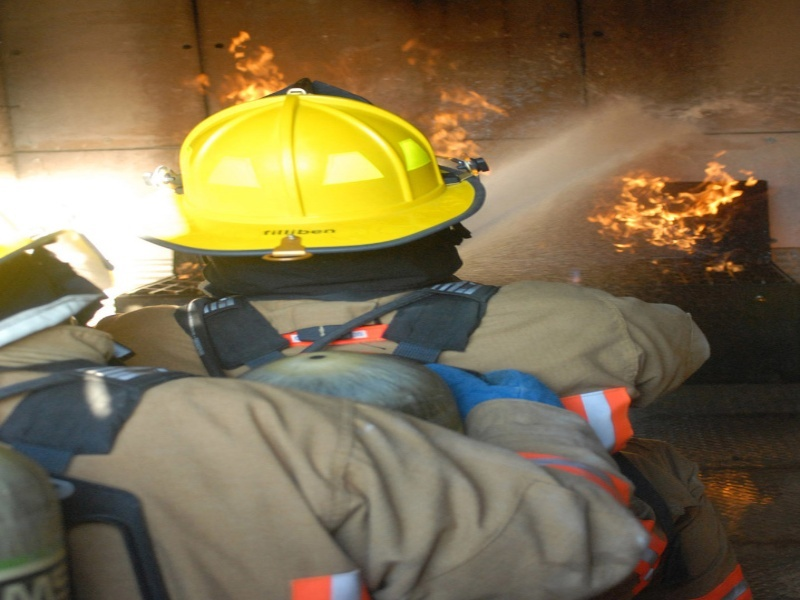baret: (141, 89, 487, 258)
